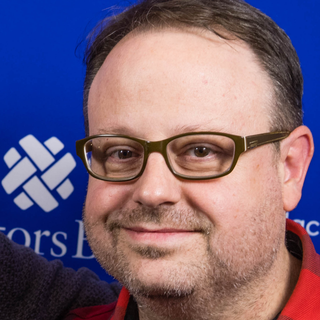eye: (169, 134, 235, 172), (97, 138, 145, 172)
